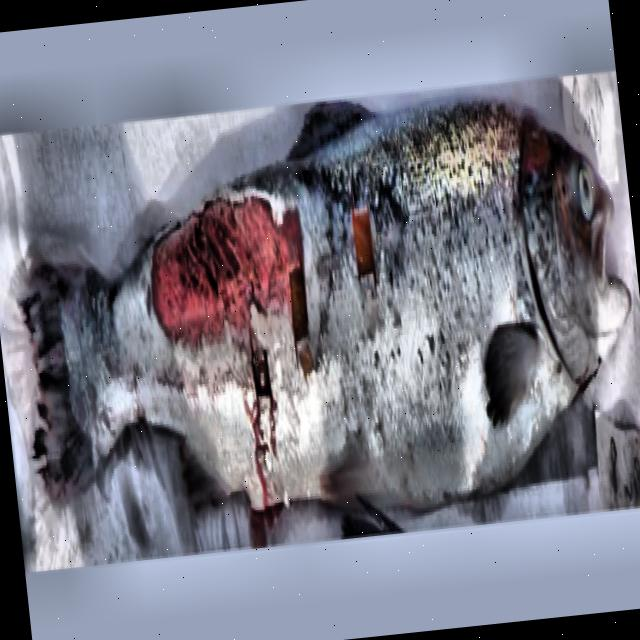mild_red: (226, 95, 630, 508), (59, 233, 261, 498)
wound: (148, 195, 313, 395), (351, 209, 375, 281)
